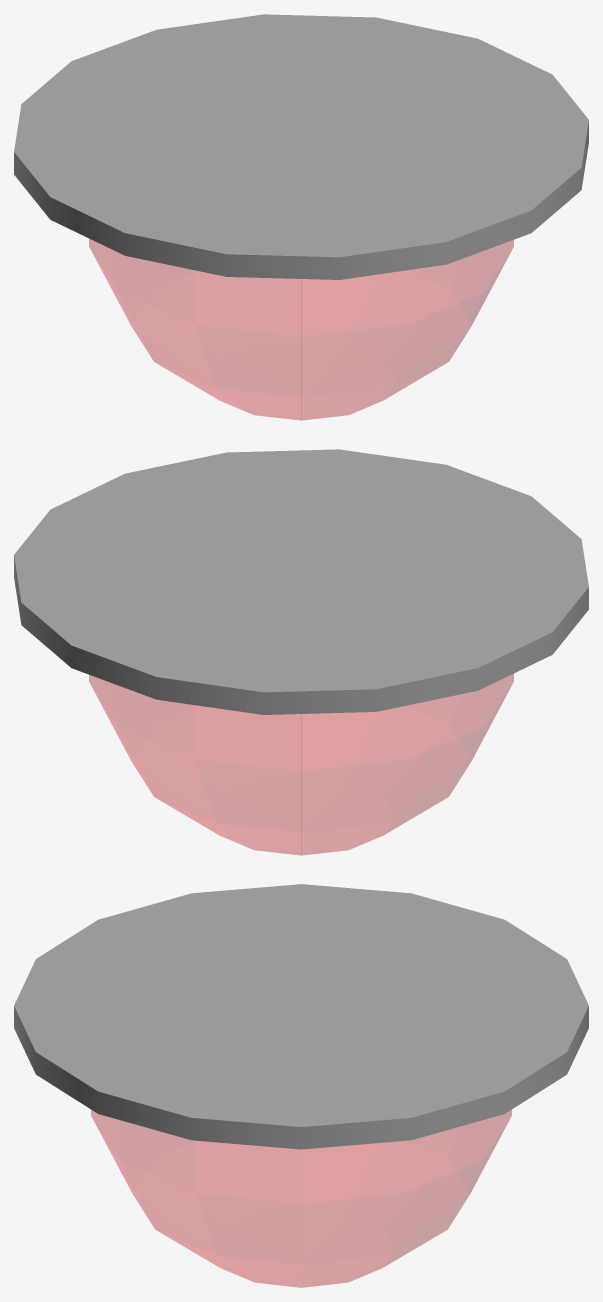
The model's file is emergencylight1.fbx.
The picture shows the model from 3 angles, top to bottom: view 1: azimuth 30°, elevation 25°; view 2: azimuth 150°, elevation 25°; view 3: azimuth 270°, elevation 25°; orthographic projection.
Visible parts, largest first — view 1: areaLight2; view 2: areaLight2; view 3: areaLight2.
Boxes of the visible parts, left/top/right/bottom form: areaLight2: left=14, top=14, right=588, bottom=420; areaLight2: left=14, top=449, right=588, bottom=855; areaLight2: left=14, top=884, right=588, bottom=1287.
Bounding box in the file's own units: 2.19 × 1.1 × 2.19.
